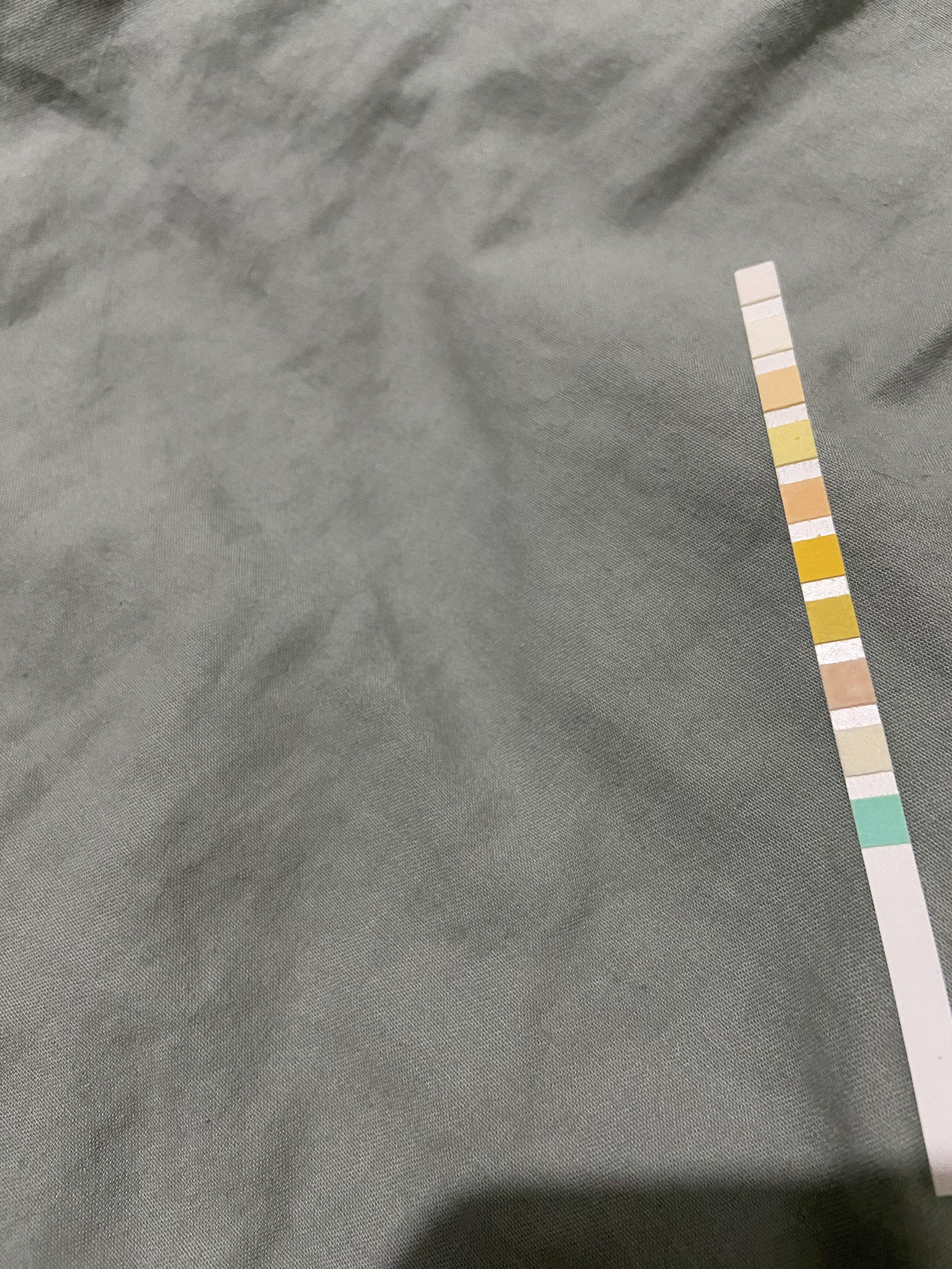Bilirubin: (844, 729, 883, 772)
Blood: (801, 541, 838, 577)
Glucose: (861, 798, 901, 845)
Ketone: (827, 664, 868, 704)
Leukocytes: (740, 270, 775, 298)
Nitrite: (752, 322, 787, 350)
Protein: (774, 427, 811, 458)
SpGravity: (814, 601, 852, 638)
Urobilinogen: (762, 374, 799, 404)
pH: (789, 483, 825, 516)
strip: (733, 261, 952, 1200)
